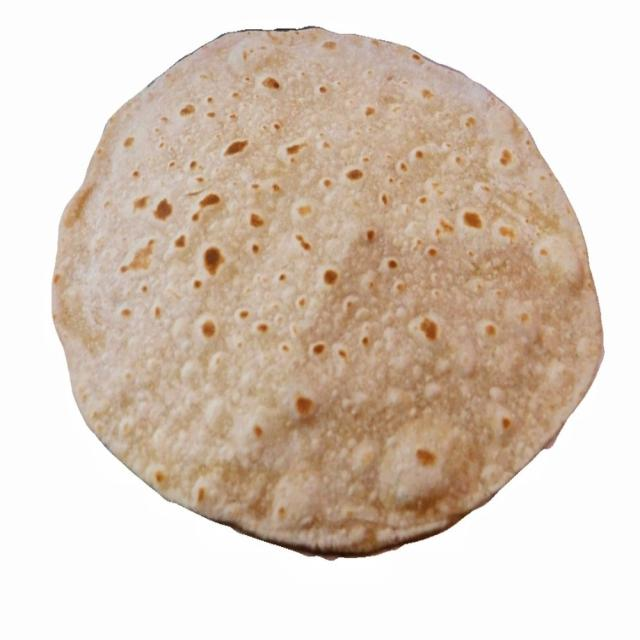ROTI: (52, 27, 601, 544)
